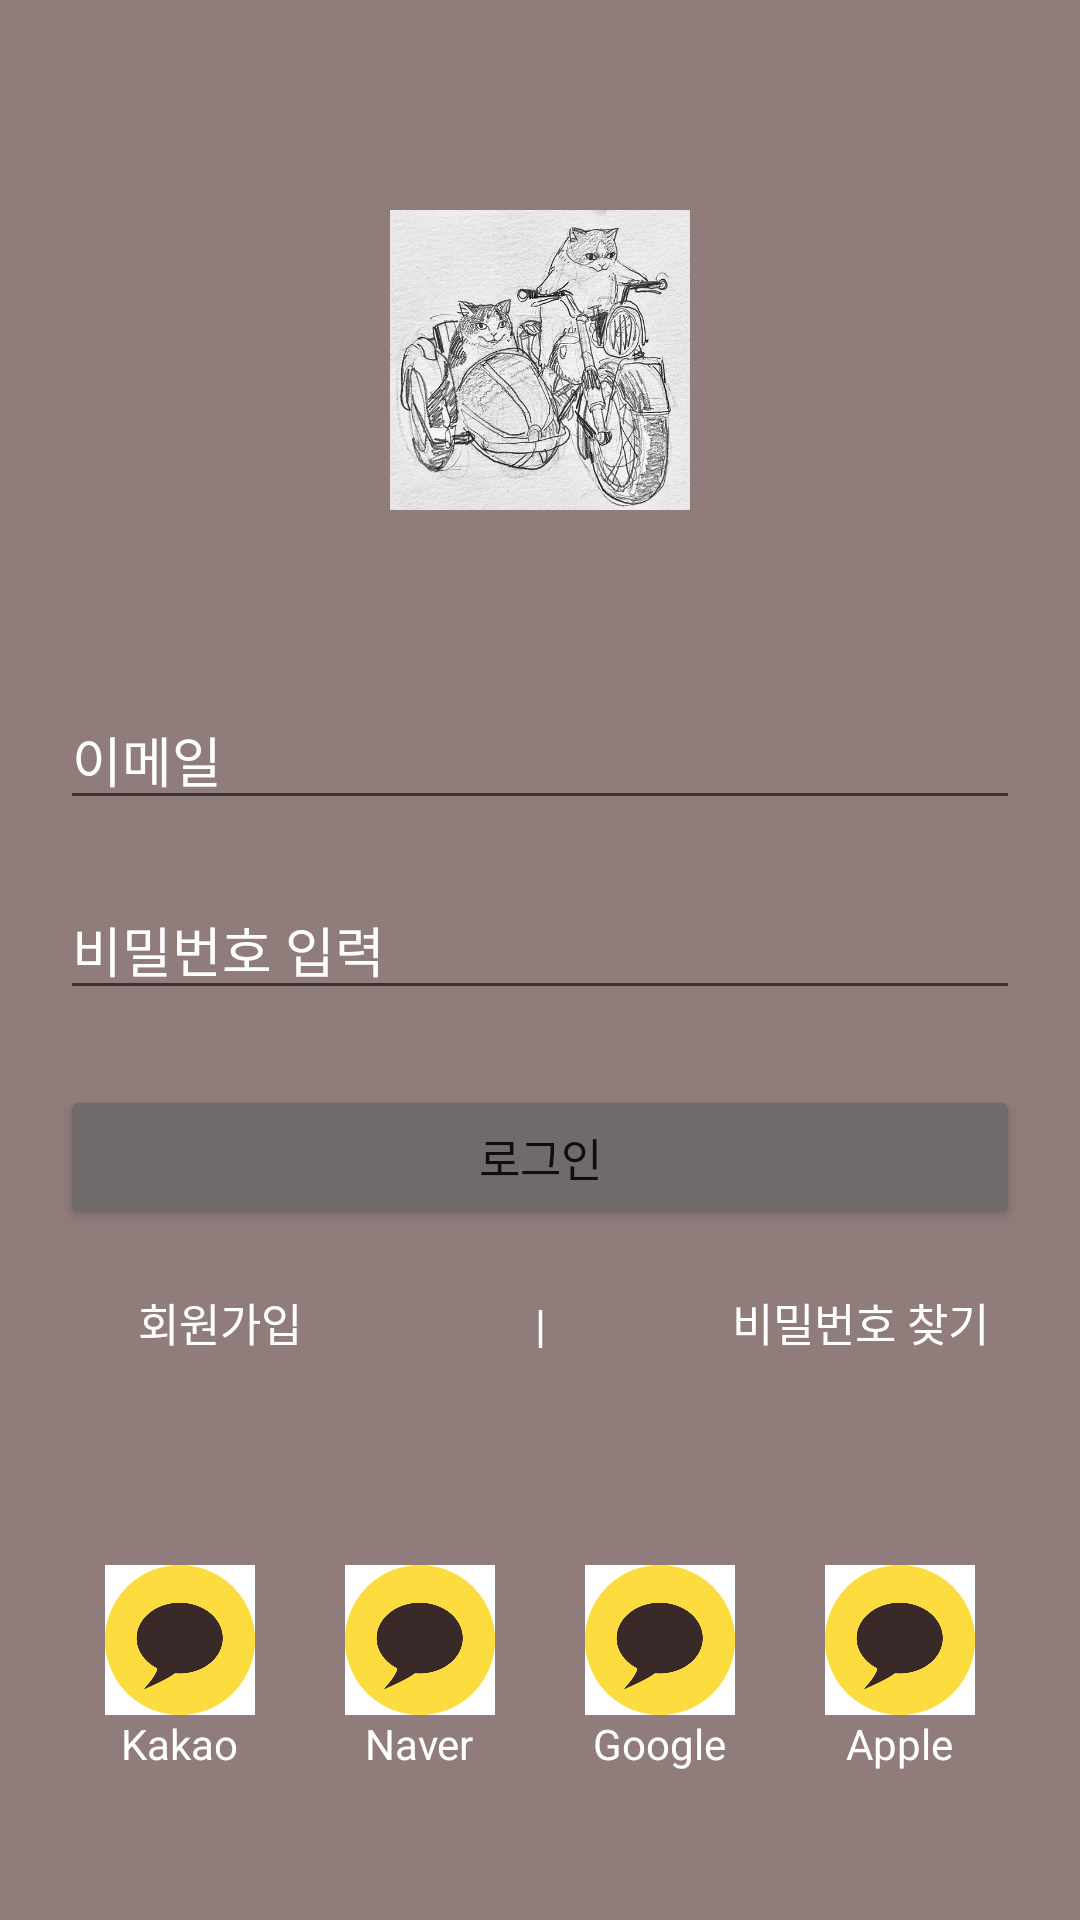

Point at icon controls on the screen. Image size 1080x1920, points as (x=x, y=y).
cat riding bike: (x=540, y=360)
